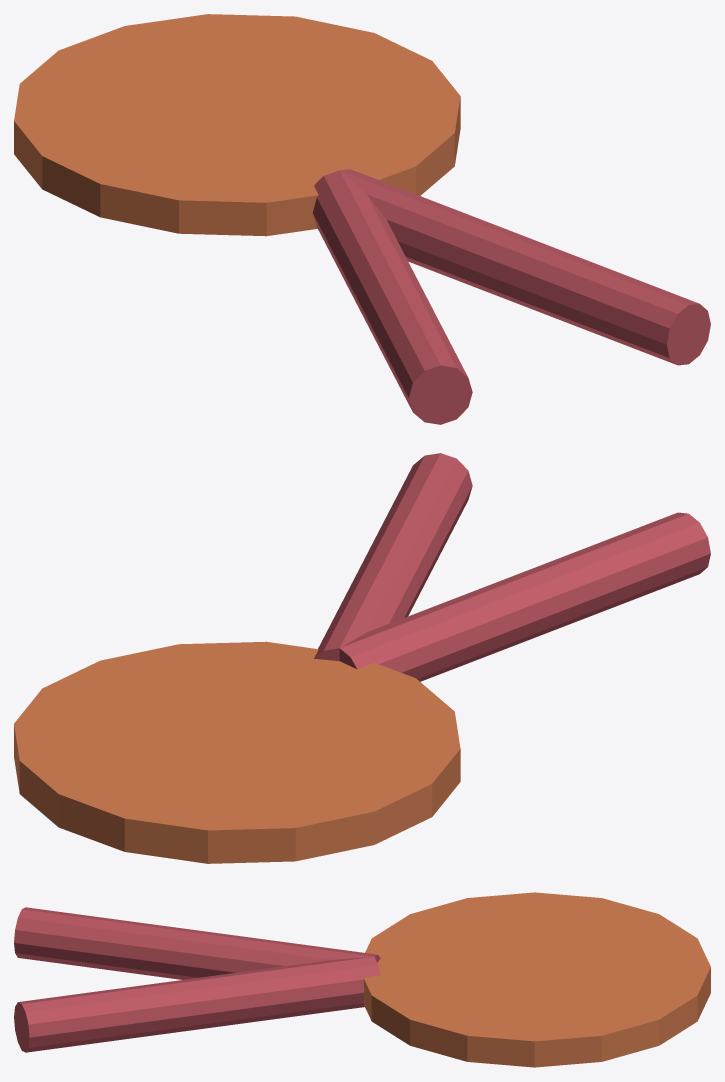
3 views of the same model, one above another, from view 1: azimuth 30°, elevation 25°; view 2: azimuth 150°, elevation 25°; view 3: azimuth 270°, elevation 25° (orthographic). The views are drawn at different scales.
Parts seen in each view (by area): view 1: geometry_0; view 2: geometry_0; view 3: geometry_0.
Boxes of the visible parts, x1=… form: geometry_0: x1=14, y1=14, x2=710, y2=424; geometry_0: x1=14, y1=453, x2=710, y2=863; geometry_0: x1=14, y1=892, x2=710, y2=1067.
Bounding box in the file's own units: 0.11 × 0.02 × 0.2174.
